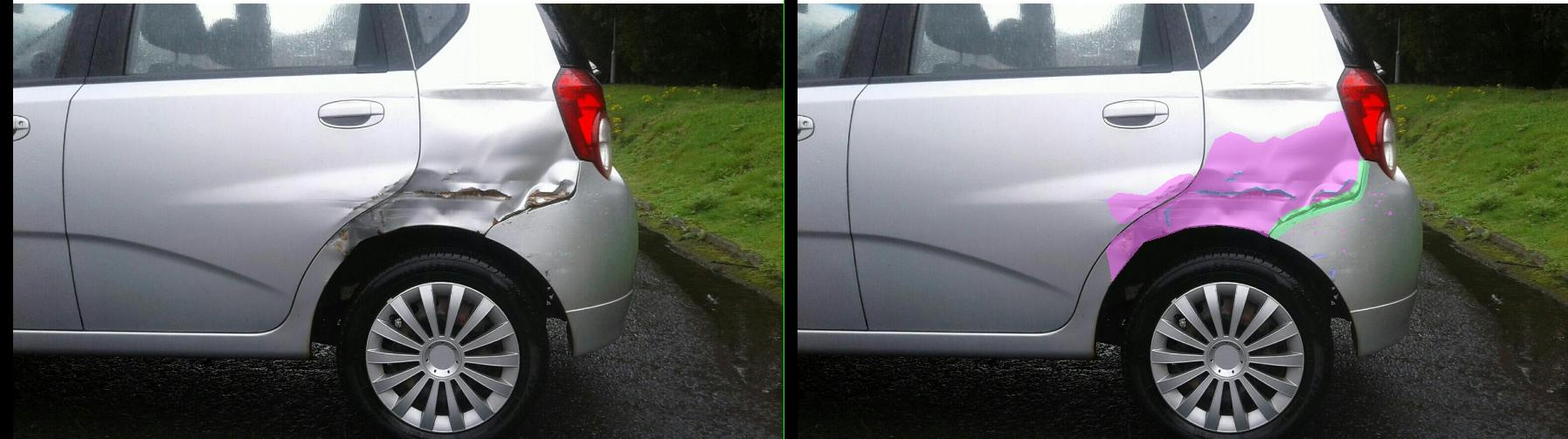Broken part: (967, 157, 1169, 239)
Corrosion: (830, 186, 1026, 200), (1049, 182, 1143, 209), (670, 244, 696, 257), (680, 228, 701, 242), (710, 202, 732, 211), (984, 216, 1000, 227), (752, 228, 769, 236)
Dent: (643, 110, 1162, 281), (643, 174, 820, 223), (1208, 210, 1215, 215), (1112, 230, 1119, 233), (1059, 232, 1065, 235), (1115, 249, 1122, 251), (1059, 222, 1065, 224), (1154, 218, 1159, 220), (1182, 204, 1185, 206), (1189, 200, 1192, 202), (1194, 193, 1197, 195), (1180, 193, 1183, 195), (1204, 182, 1206, 183), (1168, 193, 1169, 194)
Scratch: (682, 174, 809, 222), (823, 185, 1023, 200), (1052, 177, 1136, 205), (759, 208, 773, 227), (629, 200, 727, 202), (1052, 253, 1082, 257), (1091, 270, 1103, 278), (898, 170, 916, 175), (881, 178, 902, 182), (1005, 221, 1024, 225)
